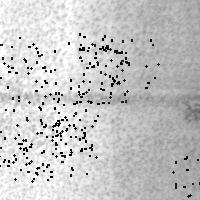pitted_surface: (1, 1, 198, 198), (14, 122, 73, 180), (40, 115, 97, 173), (11, 46, 70, 102), (68, 33, 125, 89), (26, 82, 85, 136), (76, 43, 128, 102), (100, 38, 157, 88), (51, 85, 102, 139), (0, 109, 37, 167), (0, 35, 37, 87), (172, 156, 200, 200)
